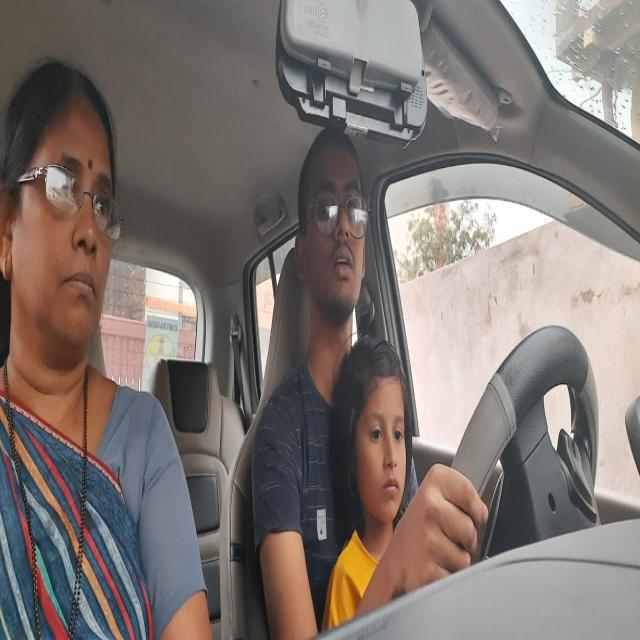child: (342, 337, 414, 523)
person: (3, 73, 120, 364), (296, 132, 368, 306)
